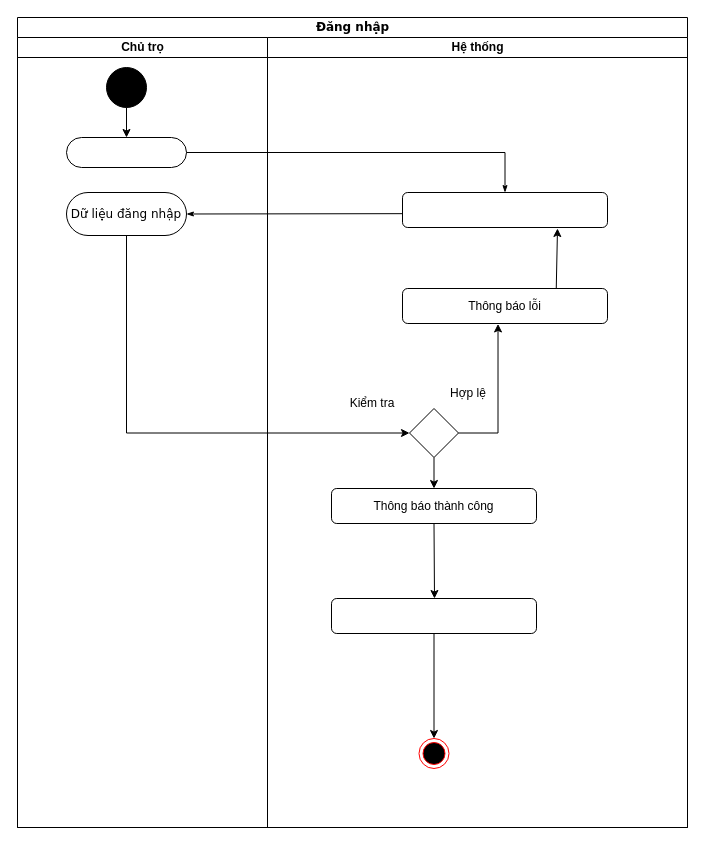
This 705x845 diagram has some shape labels left out. The box of each missing label's shape, as (x1, y1, x2, y2) in pixels:
Chuyển màn hình tổng quan: (330, 598, 536, 634)
Form giao diện đăng nhập: (402, 192, 608, 228)
truy cập đăng nhập: (66, 136, 186, 168)
